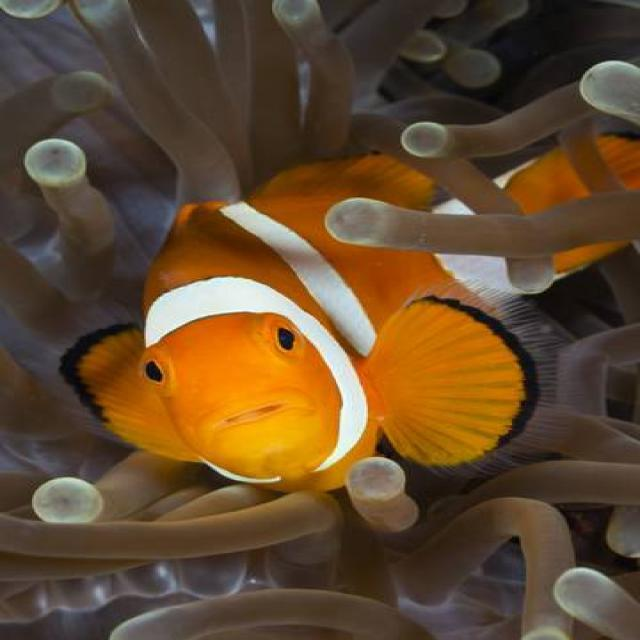ClownFish: (57, 137, 640, 497)
